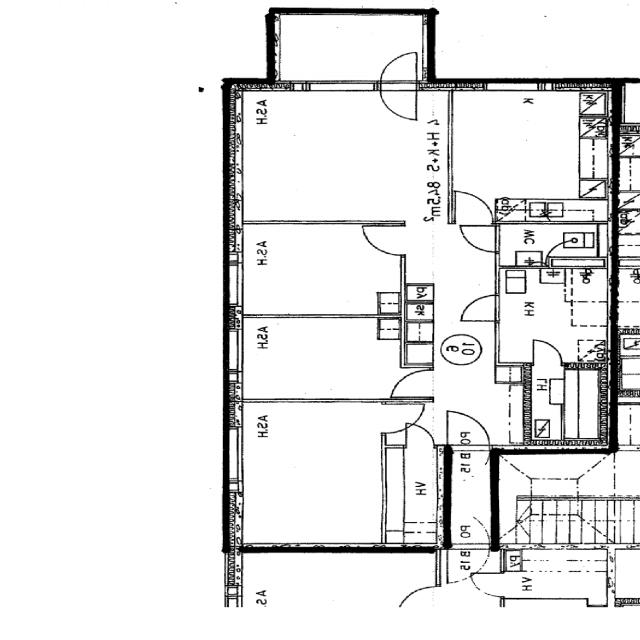door: (448, 445, 490, 484), (448, 413, 490, 451), (380, 52, 418, 91), (380, 80, 418, 119), (381, 403, 425, 433), (362, 225, 406, 255), (455, 193, 491, 224), (394, 370, 434, 397), (462, 226, 501, 252), (462, 295, 501, 321), (534, 341, 562, 371), (406, 424, 435, 448)
